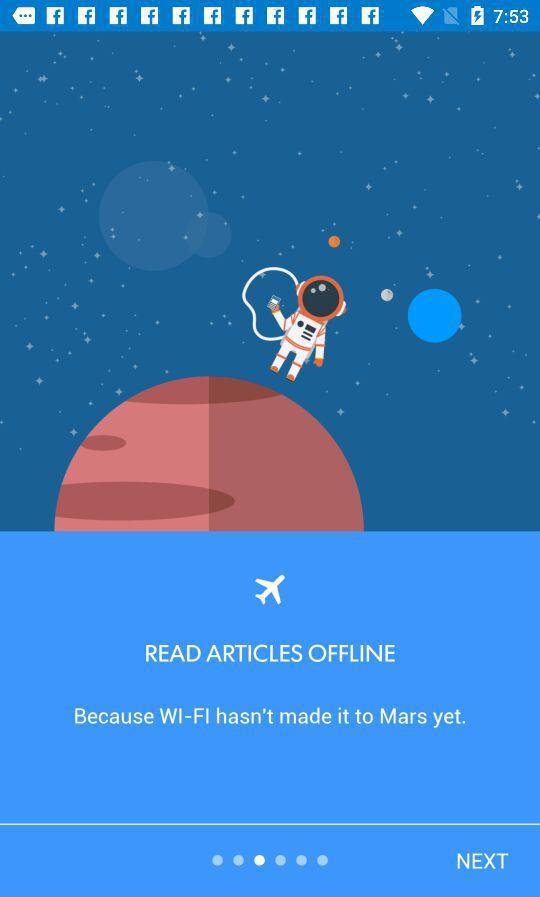Image: (1, 33, 540, 531), (254, 575, 286, 607)
PageIndicator: (211, 853, 330, 868)
Text: (75, 707, 466, 729), (146, 644, 396, 664), (456, 851, 509, 871)
UpperTaskBar: (1, 1, 540, 33)
